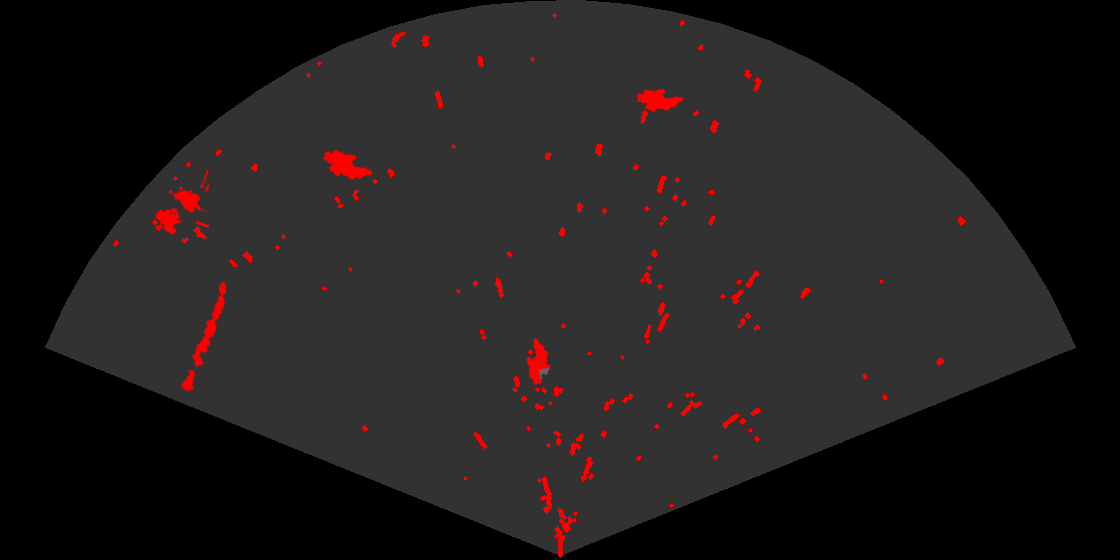AUV: (321, 148, 375, 181), (525, 336, 552, 387), (635, 87, 685, 114)
cage: (154, 170, 209, 236)
chain: (179, 280, 228, 393)
